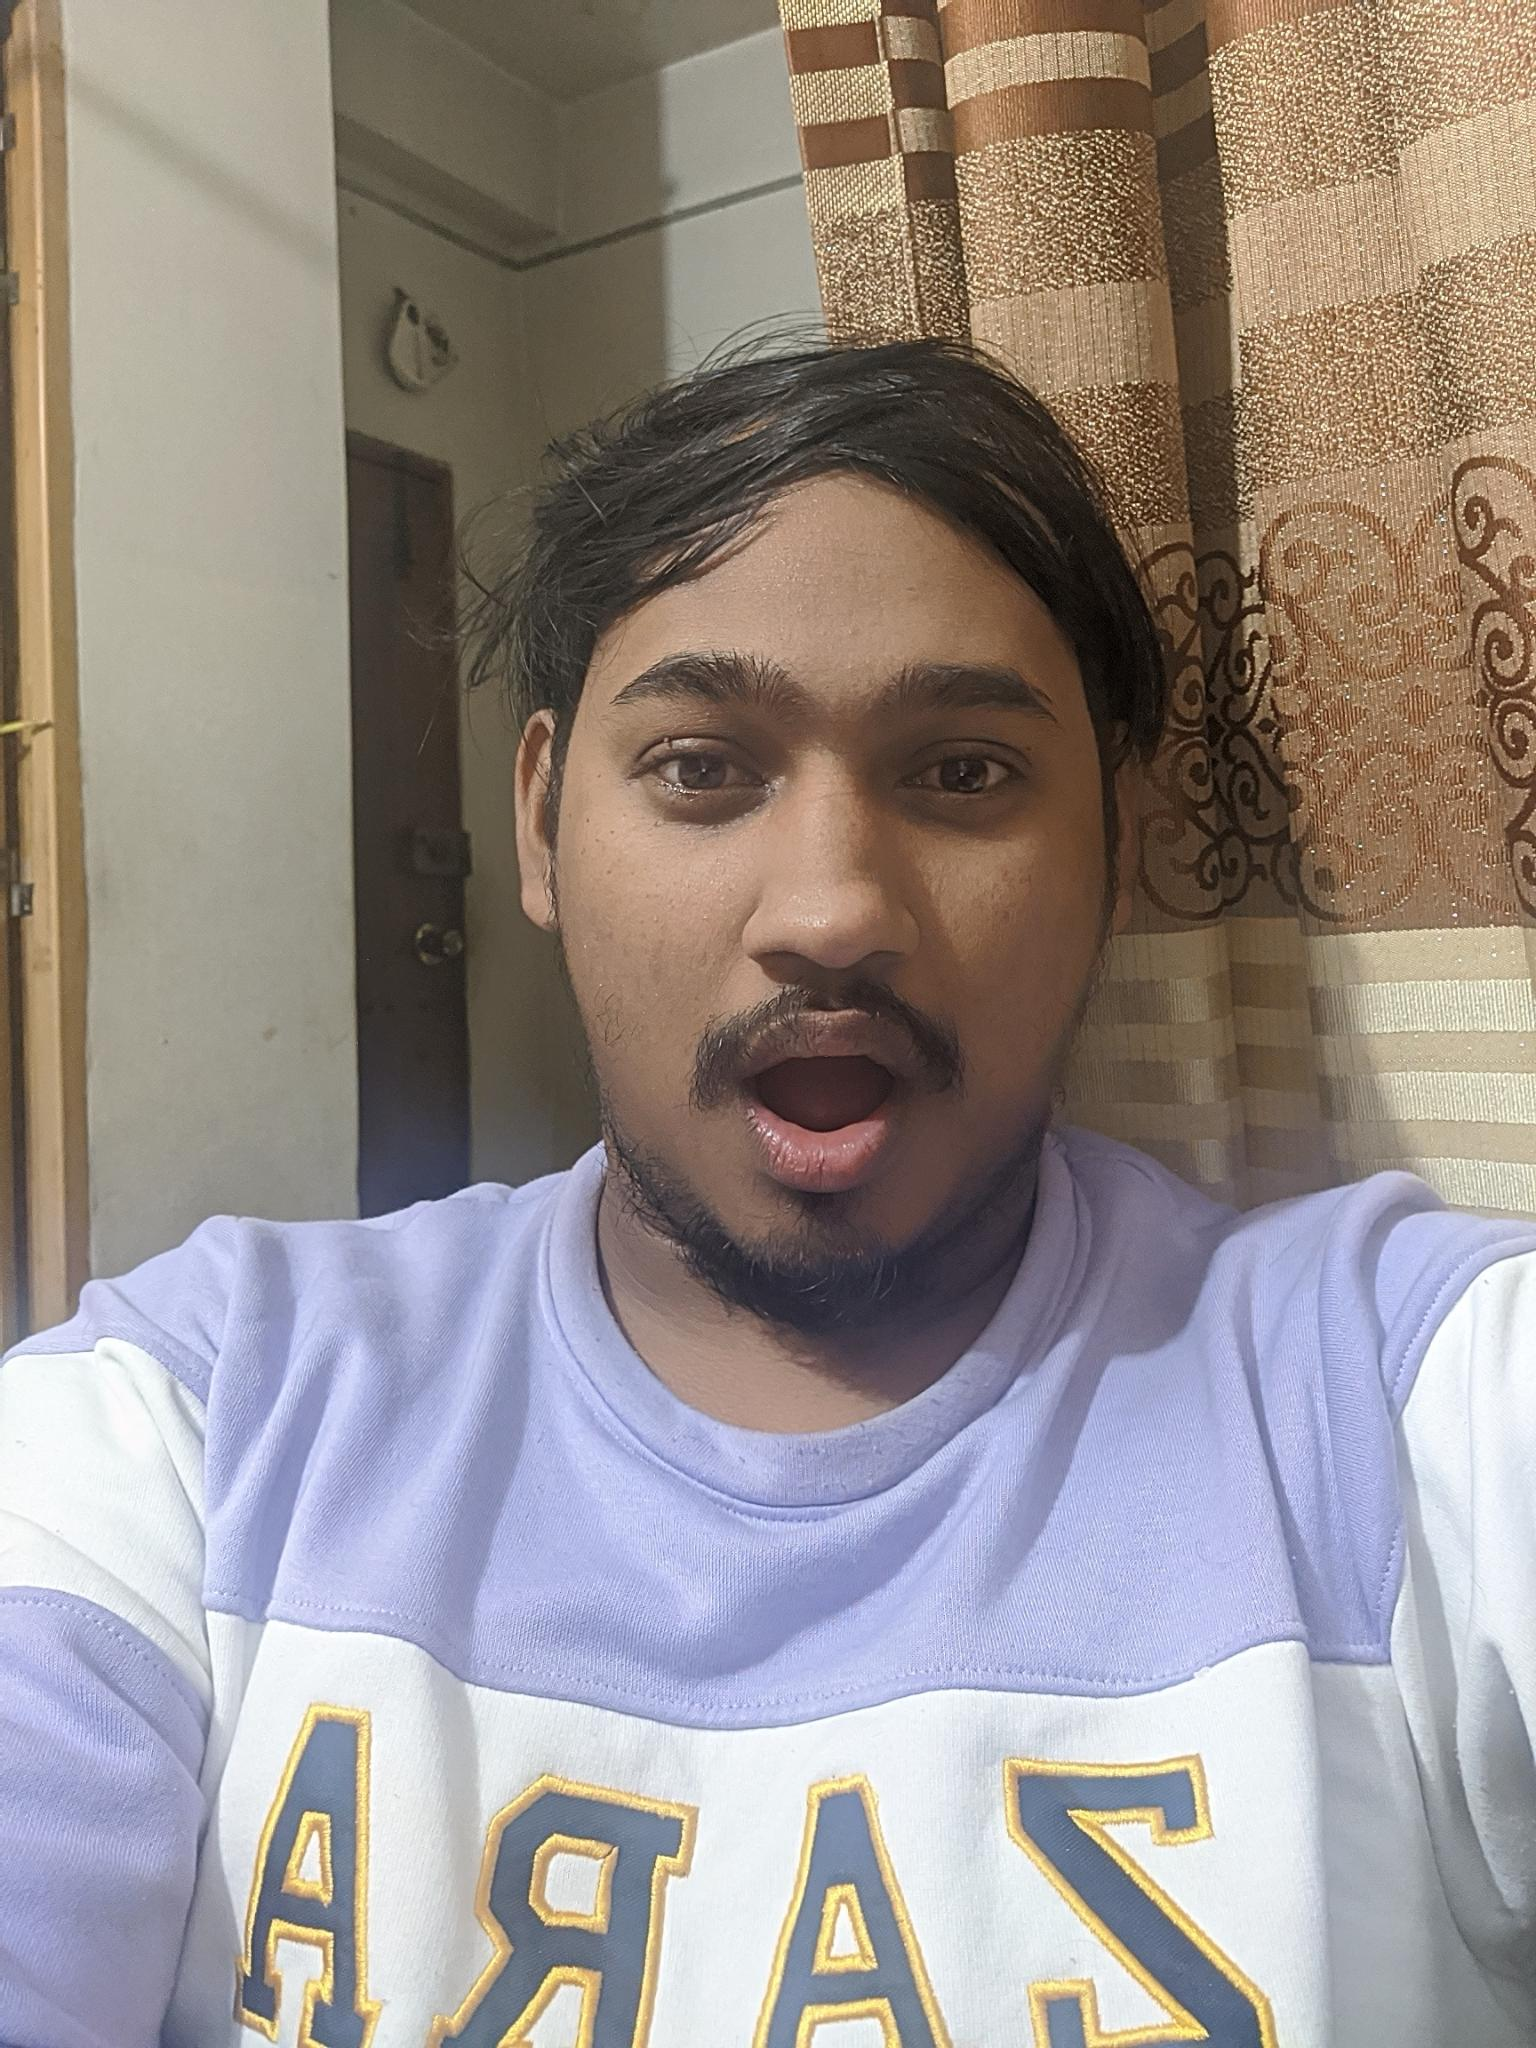Surprise: (536, 597, 1108, 1293)
